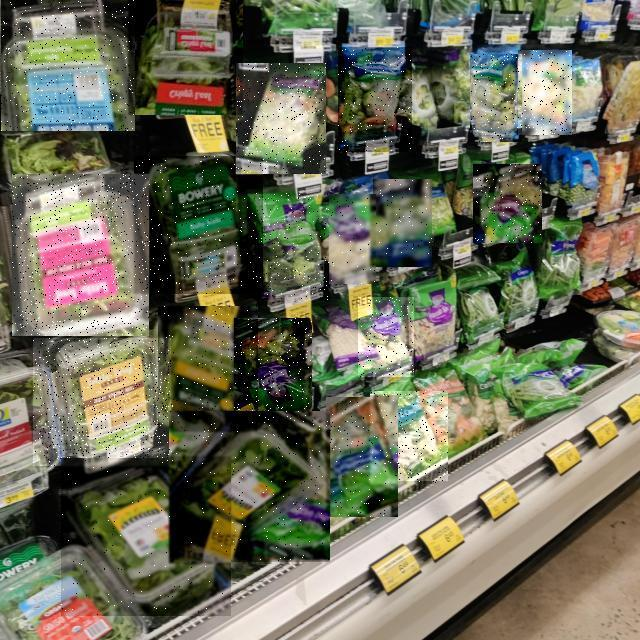Broccoli: (326, 397, 398, 517), (234, 318, 312, 426), (254, 193, 329, 300), (338, 47, 412, 152), (374, 179, 434, 267), (518, 50, 572, 135), (470, 54, 522, 142)
Brussel Sprouts: (473, 164, 542, 243)
Cauliflower: (371, 392, 449, 484), (322, 195, 378, 285), (358, 297, 414, 377)
Lettuce: (12, 175, 149, 337), (134, 156, 263, 294), (33, 338, 171, 466), (1, 0, 135, 131), (128, 0, 243, 115), (158, 306, 258, 435), (236, 63, 326, 174)
Spinach: (61, 458, 231, 616), (169, 412, 330, 564)
